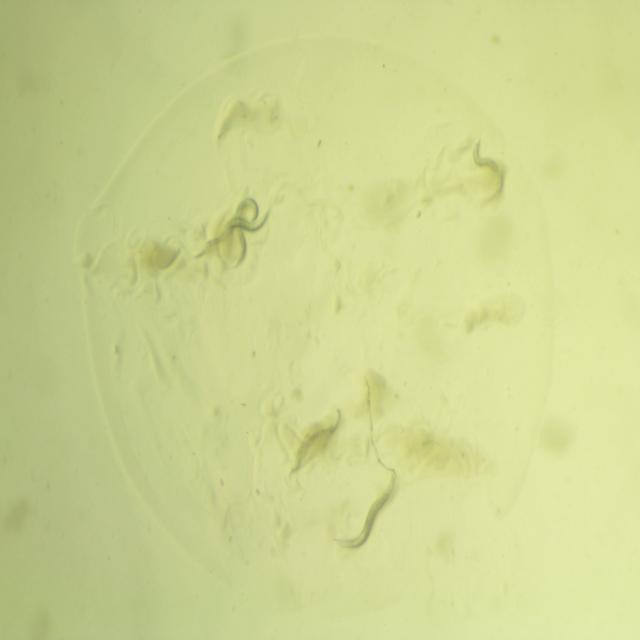worm: (328, 467, 404, 562), (284, 396, 356, 487), (191, 195, 275, 268), (461, 134, 513, 210), (220, 188, 264, 276)
